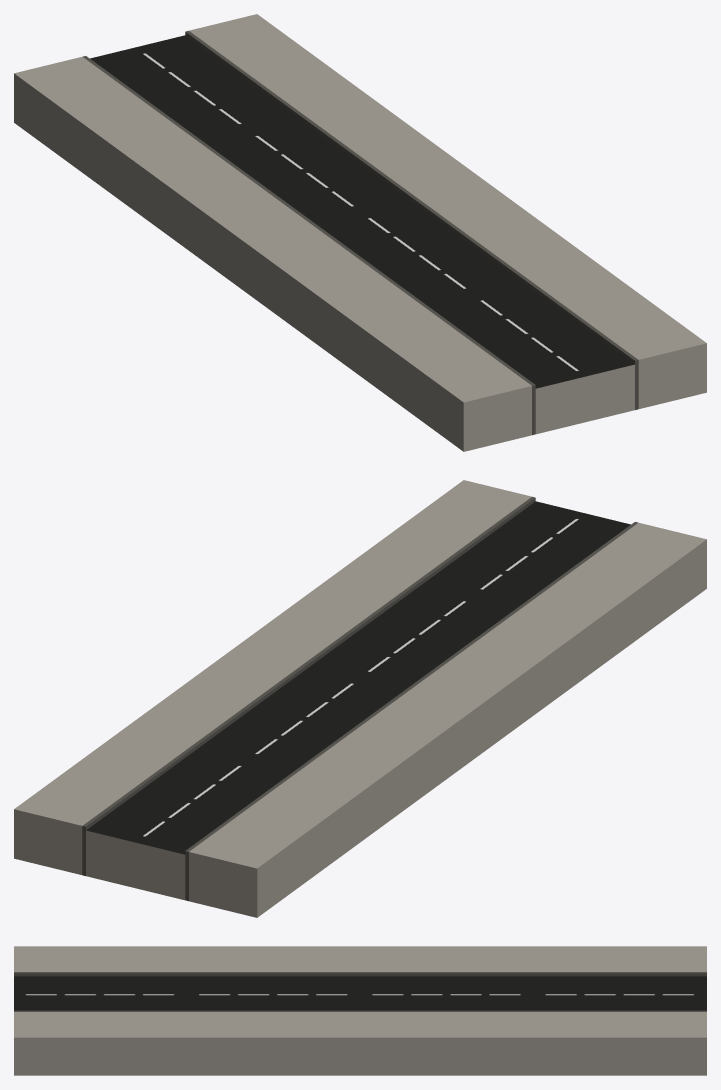
Rendered from Road_Road13.fbx.
The picture shows the model from 3 angles, top to bottom: view 1: azimuth 30°, elevation 25°; view 2: azimuth 150°, elevation 25°; view 3: azimuth 270°, elevation 25°; orthographic projection. The views are drawn at different scales.
Parts seen in each view (by area): view 1: Road_Road13; view 2: Road_Road13; view 3: Road_Road13.
Part boxes in pixels (bbox=[...]): Road_Road13: bbox=[14, 14, 706, 451]; Road_Road13: bbox=[14, 480, 706, 917]; Road_Road13: bbox=[14, 946, 706, 1075].
Size of the model in its own units: 1696 by 329 by 5434.
